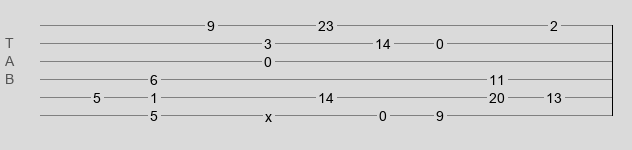0: (264, 54, 272, 64), (379, 108, 387, 118), (436, 36, 444, 46)
1: (150, 90, 158, 100)
11: (489, 72, 505, 82)
13: (546, 90, 562, 100)
14: (318, 90, 334, 100), (375, 36, 391, 46)
2: (550, 18, 558, 28)
20: (489, 90, 505, 100)
23: (318, 18, 334, 28)
3: (264, 36, 272, 46)
5: (93, 90, 101, 100), (150, 108, 158, 118)
6: (150, 72, 158, 82)
9: (207, 18, 215, 28), (436, 108, 444, 118)
x: (265, 109, 272, 117)
